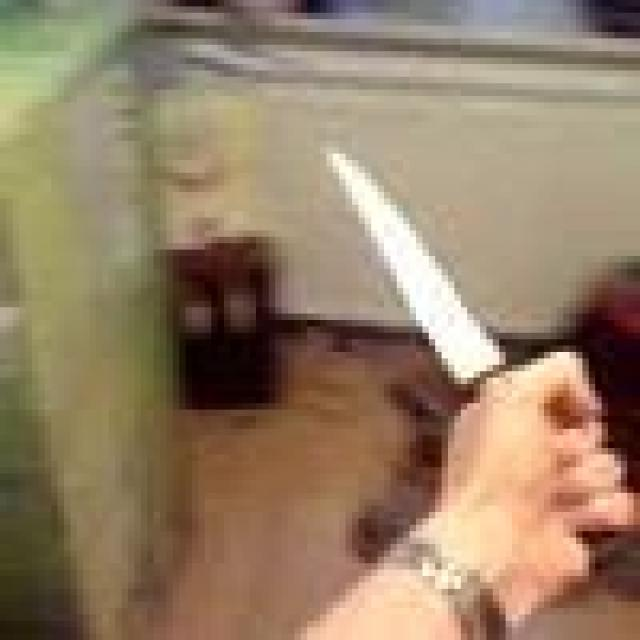senjata_tajam: (323, 137, 512, 377)
